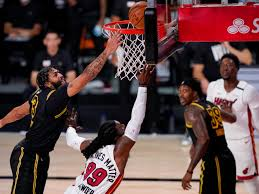basketball: (122, 3, 155, 30)
basketball_player: (1, 46, 80, 194), (194, 52, 259, 194), (170, 76, 243, 194), (70, 101, 153, 194)
basketball_rim: (101, 19, 152, 80)
